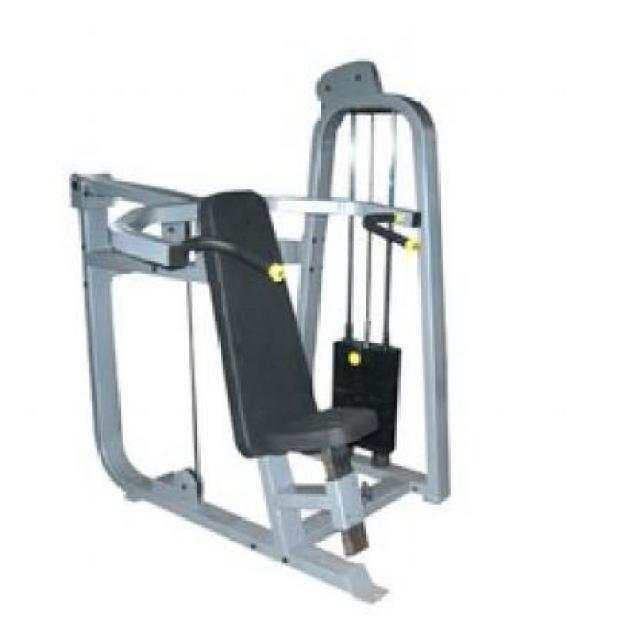shoulder press machine: (66, 59, 454, 603)
